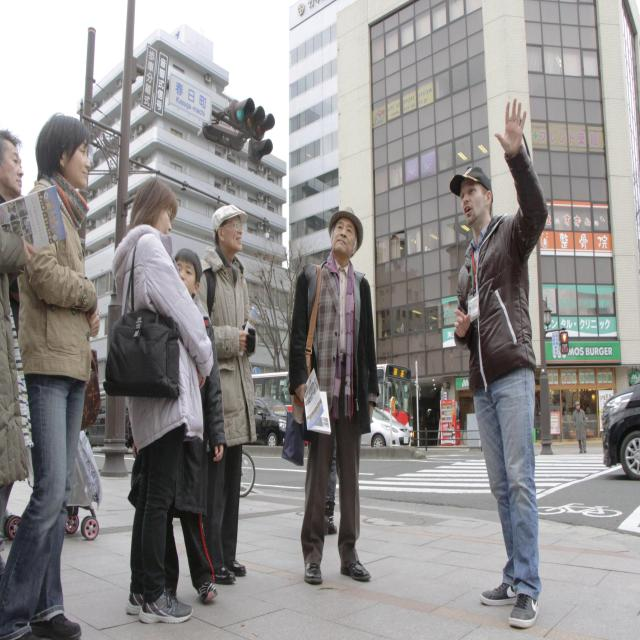body: (447, 95, 551, 632), (0, 109, 103, 640), (101, 173, 216, 627), (287, 203, 382, 588), (159, 245, 230, 604), (197, 203, 259, 585), (287, 237, 353, 539), (0, 222, 39, 536), (0, 128, 26, 340), (572, 400, 588, 454)
